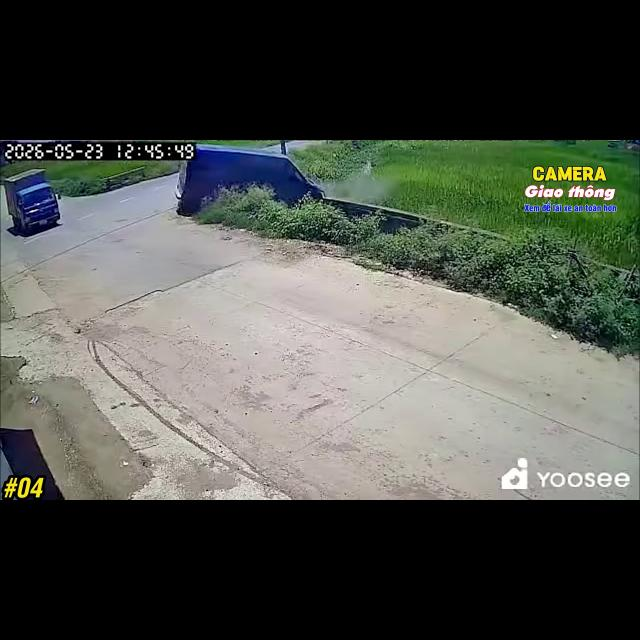car: (176, 145, 323, 215)
truck: (4, 170, 61, 234)
